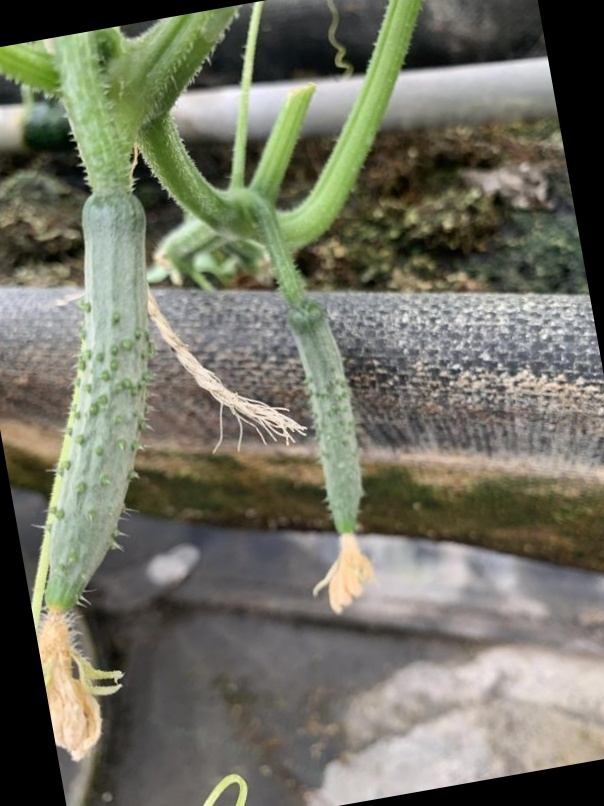bear: (280, 299, 374, 599)
growth: (39, 182, 160, 644)
